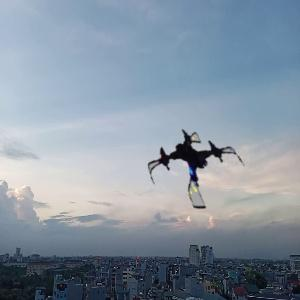drone: (149, 122, 245, 218)
